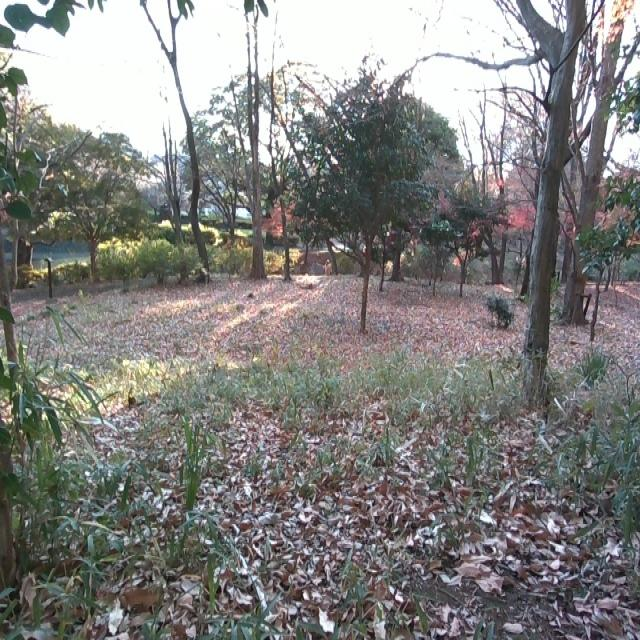bush: (1, 304, 98, 572), (552, 387, 640, 537), (100, 233, 285, 283)
tree: (493, 0, 588, 411), (0, 0, 42, 577), (567, 0, 640, 327), (137, 0, 214, 283), (226, 0, 282, 283), (346, 206, 378, 342), (77, 211, 112, 289)
